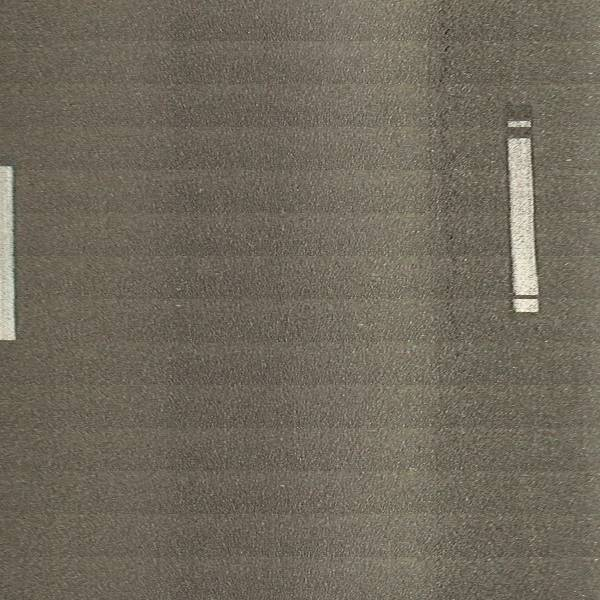road_damage: (428, 13, 474, 355)
